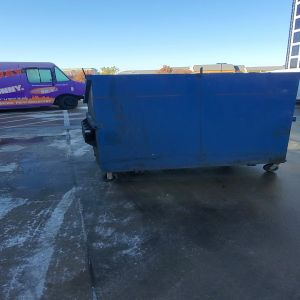Dumpster: (82, 75, 300, 186)
